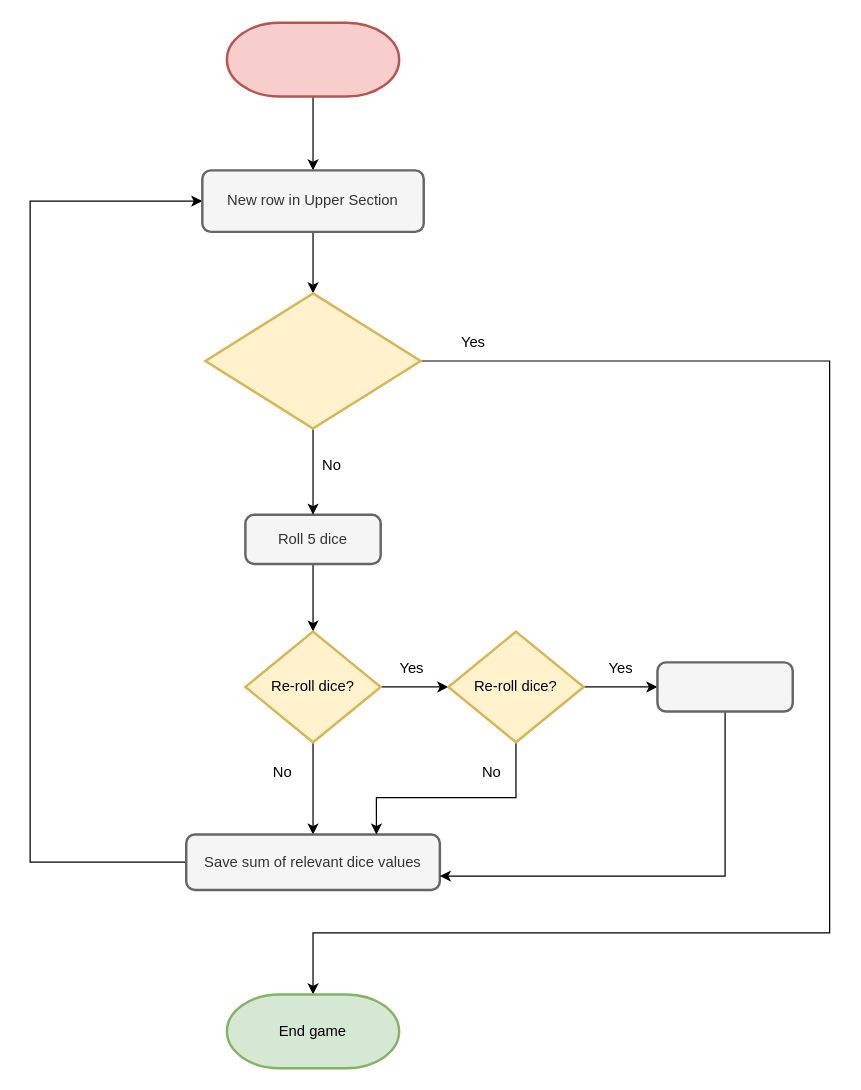
Some shapes in this 861 by 1090 pixel diagram are drawn without their labels. The shapes that lost their labels are listed below. From the top down, each one's centre as x and y in pixels, then its label:
the point at 312,59: Start a game of Yatzy
the point at 312,360: Have all rows been played?
the point at 724,686: Last dice re-roll
